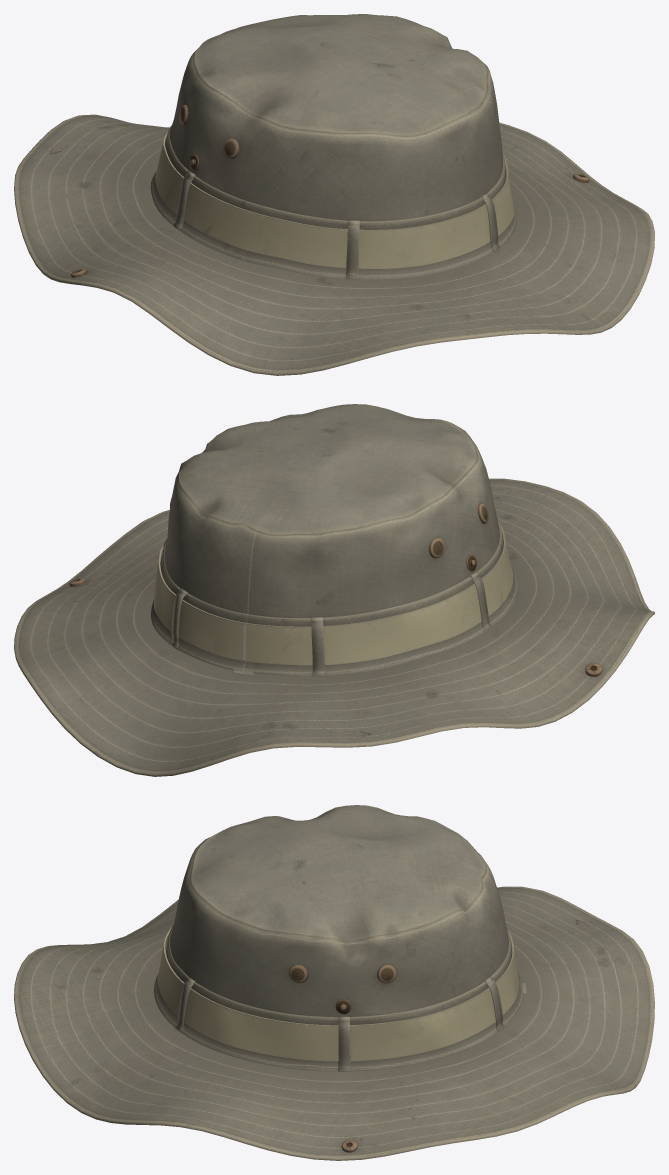
The model's file is fishermans_hat.glb.
3 renders of one model, top to bottom at view 1: azimuth 30°, elevation 25°; view 2: azimuth 150°, elevation 25°; view 3: azimuth 270°, elevation 25°, orthographic. The views are drawn at different scales.
Visible parts, largest first — view 1: fishermans_hat; view 2: fishermans_hat; view 3: fishermans_hat.
Boxes of the visible parts, x1,y1,x2,y2 form: fishermans_hat: [14, 14, 654, 375]; fishermans_hat: [14, 404, 654, 776]; fishermans_hat: [14, 805, 654, 1160].
Size of the model in its own units: 0.3228 by 0.126 by 0.35.
Materials: 1 (1 with a texture image).
